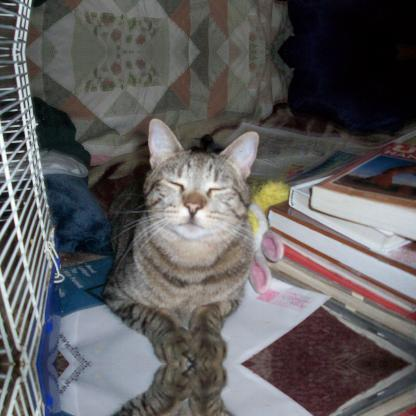Cat: (102, 117, 258, 362), (102, 365, 259, 415)
